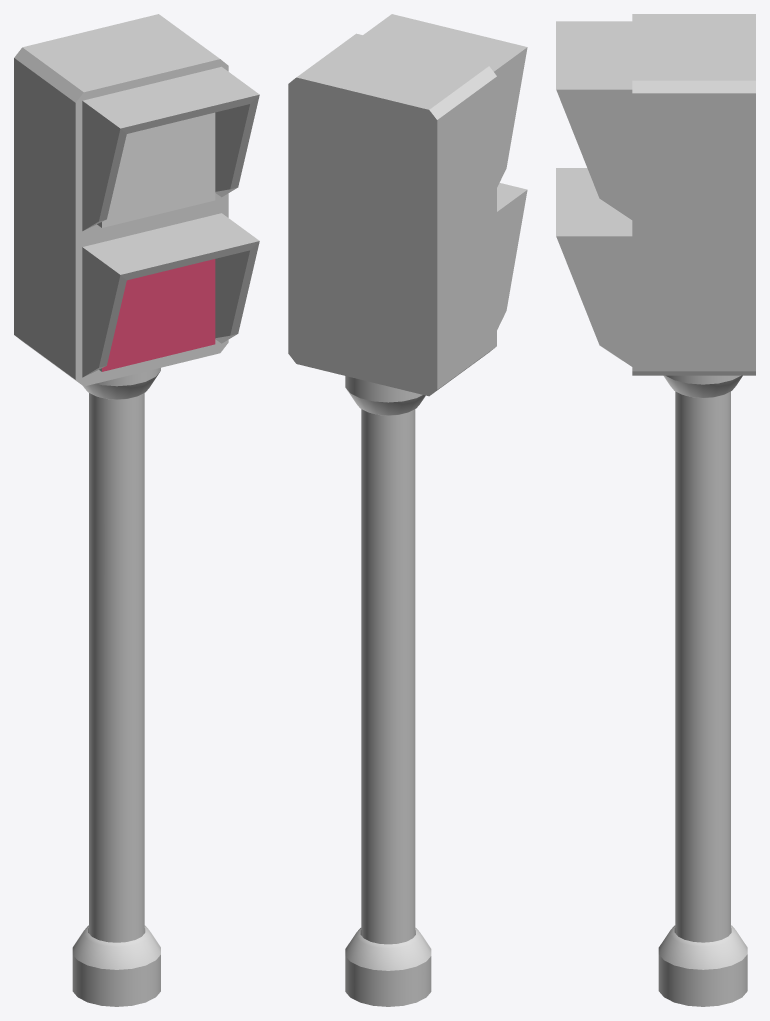
The model's file is Traffic Light.fbx.
3 views of the same model, side by side, from view 1: azimuth 30°, elevation 25°; view 2: azimuth 150°, elevation 25°; view 3: azimuth 270°, elevation 25° (orthographic). The views are drawn at different scales.
Visible parts, largest first — view 1: Traffic Light; view 2: Traffic Light; view 3: Traffic Light.
Part boxes in pixels (x1,y1,x2,y2): Traffic Light: (14,14,259,1006); Traffic Light: (288,14,527,1006); Traffic Light: (556,14,755,1006).
Bounding box in the file's own units: 0.5 × 2.93 × 0.5644.
